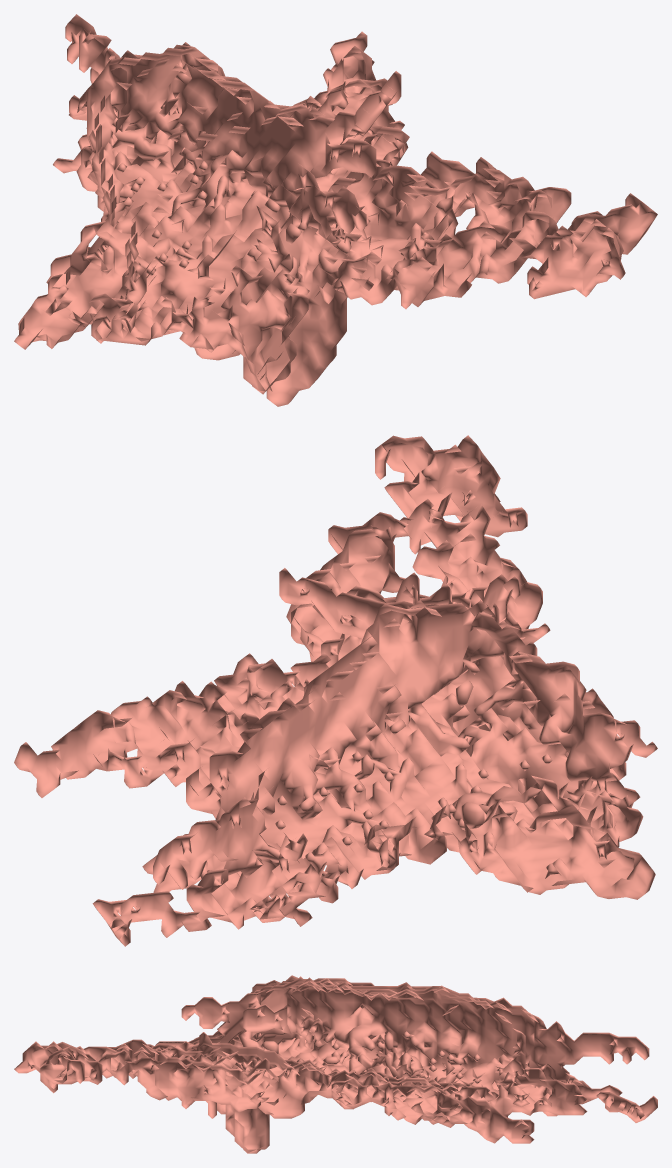
File: osteocyte_57.glb
The picture shows the model from 3 angles, top to bottom: view 1: azimuth 30°, elevation 25°; view 2: azimuth 150°, elevation 25°; view 3: azimuth 270°, elevation 25°; orthographic projection. The views are drawn at different scales.
Parts seen in each view (by area): view 1: osteocyte_57; view 2: osteocyte_57; view 3: osteocyte_57.
Boxes of the visible parts, x1=… form: osteocyte_57: x1=14, y1=14, x2=657, y2=406; osteocyte_57: x1=14, y1=435, x2=657, y2=946; osteocyte_57: x1=14, y1=975, x2=657, y2=1153.
Size of the model in its own units: 20.12 by 10.73 by 32.64.
